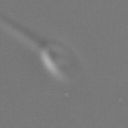normal: (1, 9, 48, 48)
